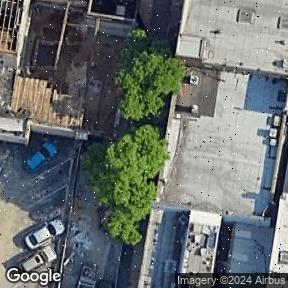vegetation: (61, 24, 204, 248)
